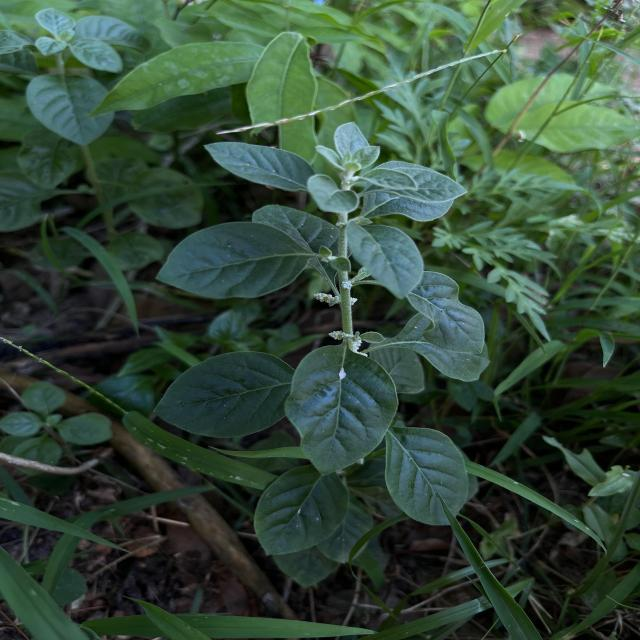Aerva lanata: (282, 342, 400, 478), (150, 349, 298, 441), (153, 220, 314, 302), (370, 270, 487, 355), (251, 463, 351, 558), (382, 423, 470, 528), (201, 140, 317, 196)
